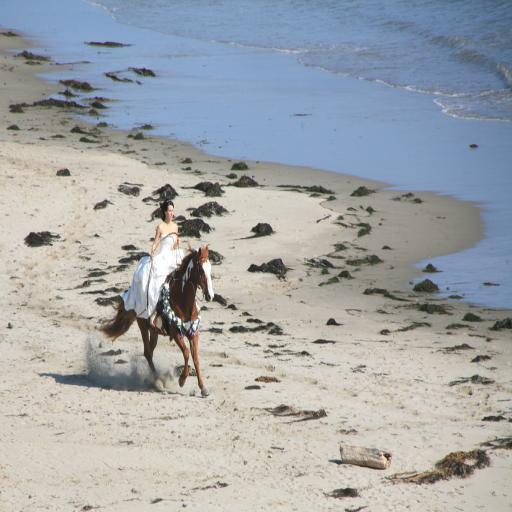horse: (96, 240, 216, 398)
